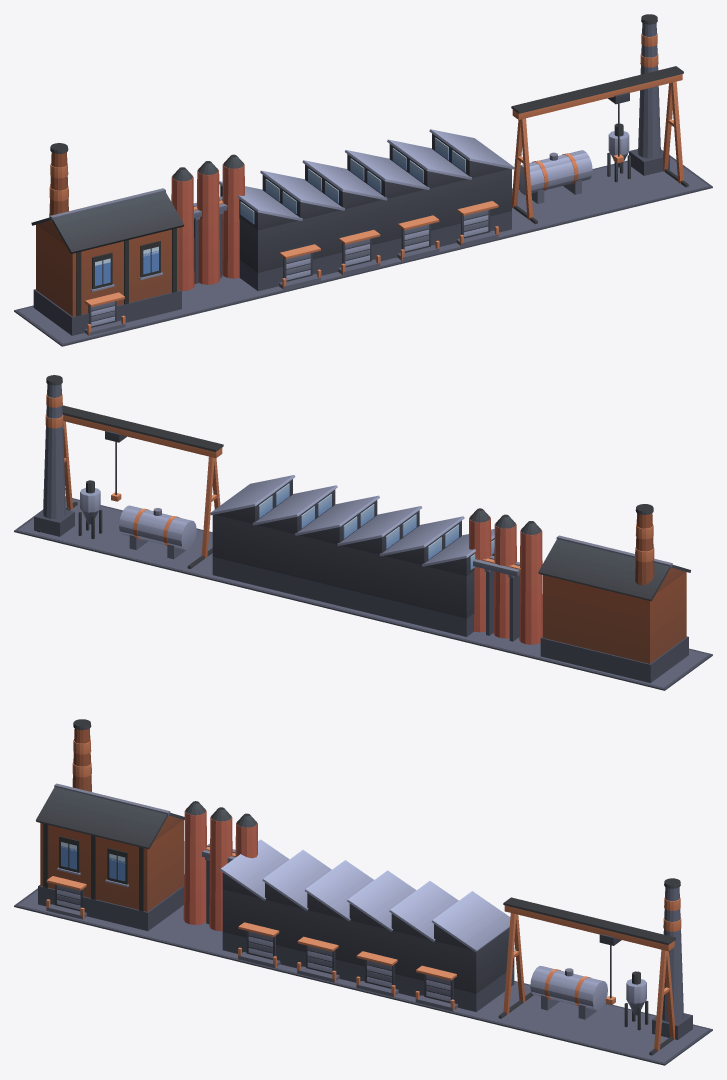
The model's file is ind_heavy_works_7x1.glb.
3 views of the same model, one above another, from view 1: azimuth 30°, elevation 25°; view 2: azimuth 150°, elevation 25°; view 3: azimuth 330°, elevation 25° (orthographic).
Parts seen in each view (by area): view 1: ind_heavy_works_7x1; view 2: ind_heavy_works_7x1; view 3: ind_heavy_works_7x1.
Part boxes in pixels (x1,y1,x2,y2): ind_heavy_works_7x1: (14, 14, 712, 346); ind_heavy_works_7x1: (14, 375, 712, 690); ind_heavy_works_7x1: (14, 719, 712, 1065).
Bounding box in the file's own units: 13.74 × 3.35 × 1.76.
Materials: 1 (1 with a texture image).
